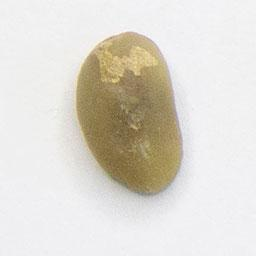longberry: (72, 26, 189, 199)
